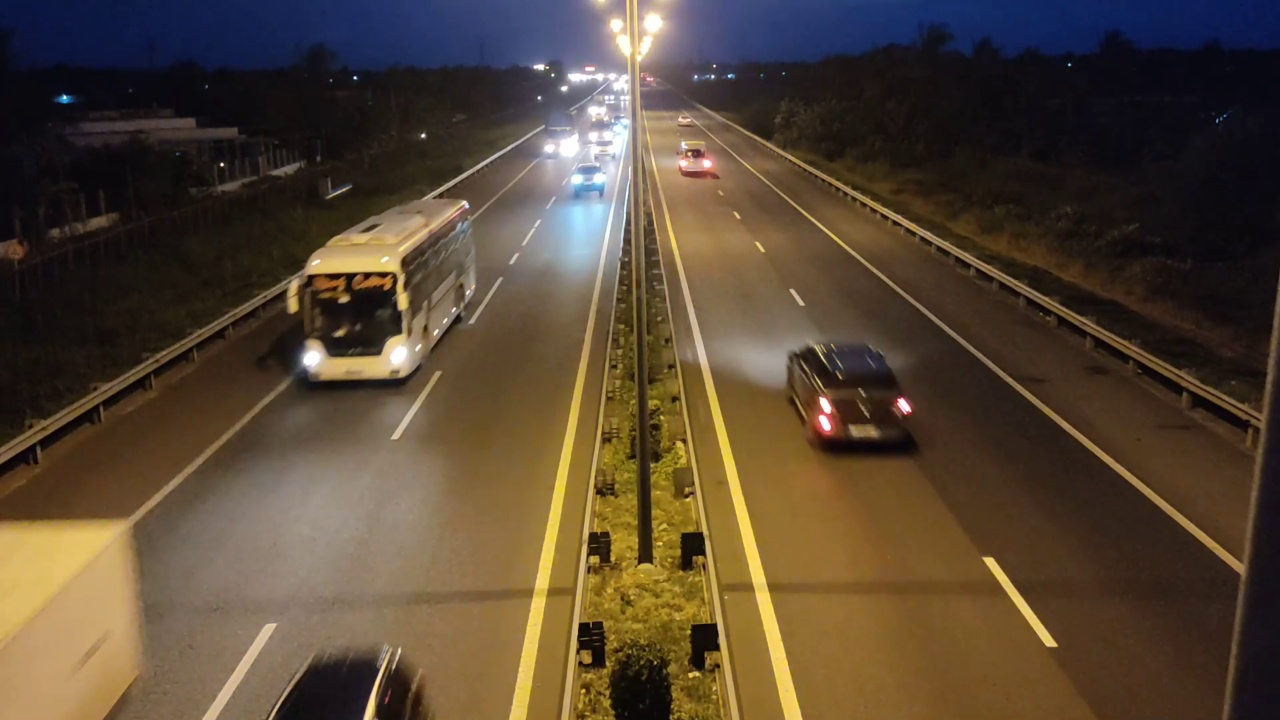bus: (294, 197, 478, 384)
car: (784, 341, 916, 453), (677, 142, 719, 179), (569, 164, 607, 199)
